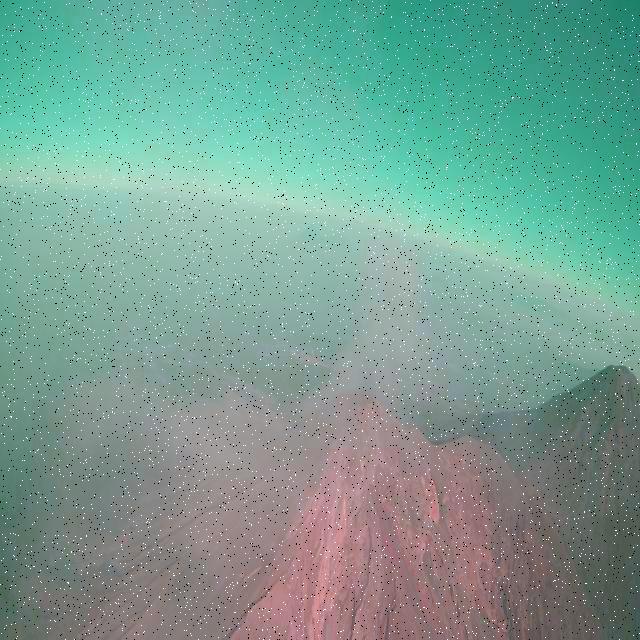Summit: (263, 384, 437, 530)
